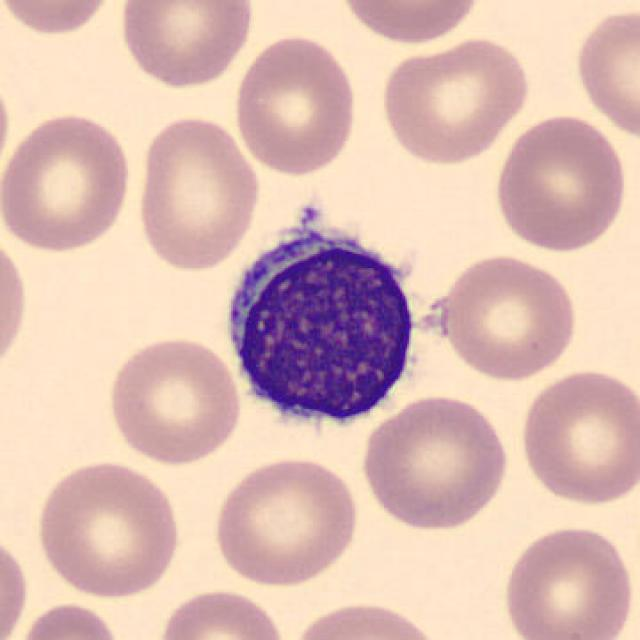Lymphocyte: (214, 210, 428, 439)
RBC: (32, 455, 183, 601), (357, 392, 514, 532), (375, 34, 535, 168), (132, 111, 263, 273), (208, 453, 363, 589), (491, 109, 631, 256), (0, 107, 135, 255), (434, 248, 581, 382), (229, 30, 361, 176), (103, 332, 244, 468), (516, 365, 638, 509), (498, 522, 636, 640), (114, 0, 258, 90), (571, 3, 638, 143), (332, 0, 489, 48), (153, 585, 290, 640), (286, 597, 446, 640), (0, 227, 32, 381), (0, 0, 123, 39), (12, 599, 124, 640), (0, 527, 32, 640), (0, 63, 12, 195)
